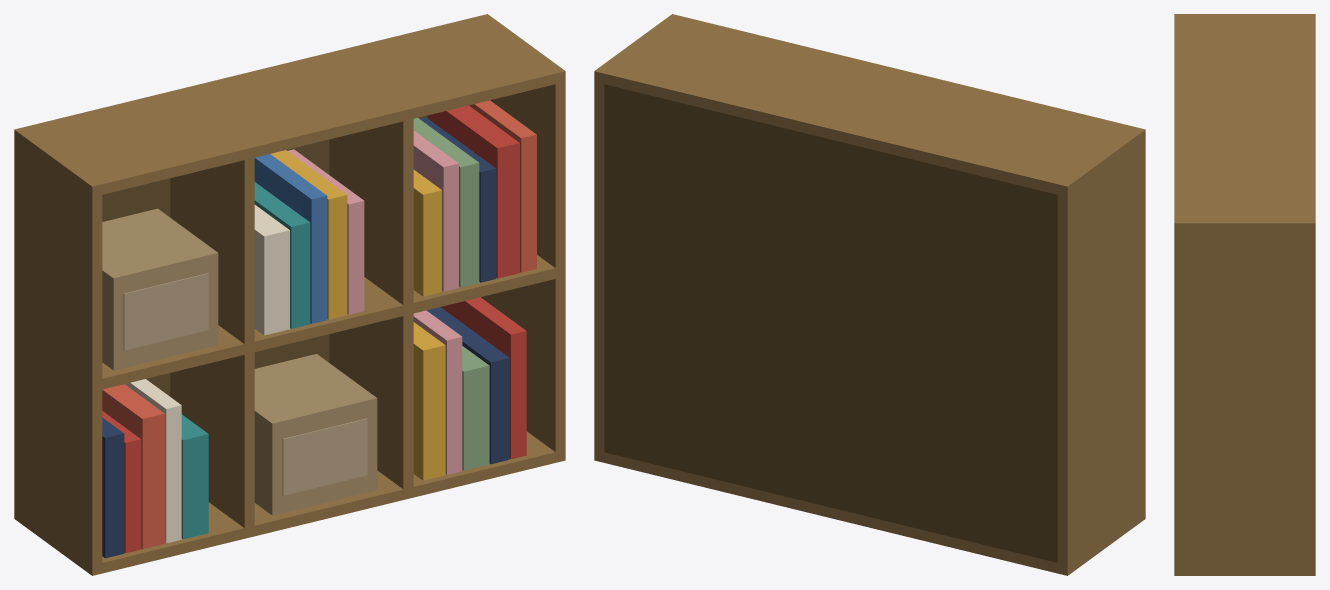
File: wide_bookcase.glb
3 renders of one model, left to right at view 1: azimuth 30°, elevation 25°; view 2: azimuth 150°, elevation 25°; view 3: azimuth 270°, elevation 25°, orthographic. The views are drawn at different scales.
Parts seen in each view (by area): view 1: wide_bookcase_Body; view 2: wide_bookcase_Body; view 3: wide_bookcase_Body.
Part boxes in pixels (x1=…): wide_bookcase_Body: x1=14, y1=14, x2=565, y2=575; wide_bookcase_Body: x1=594, y1=14, x2=1145, y2=575; wide_bookcase_Body: x1=1174, y1=14, x2=1315, y2=575.
Size of the model in its own units: 1.4 by 1.1 by 0.4.
